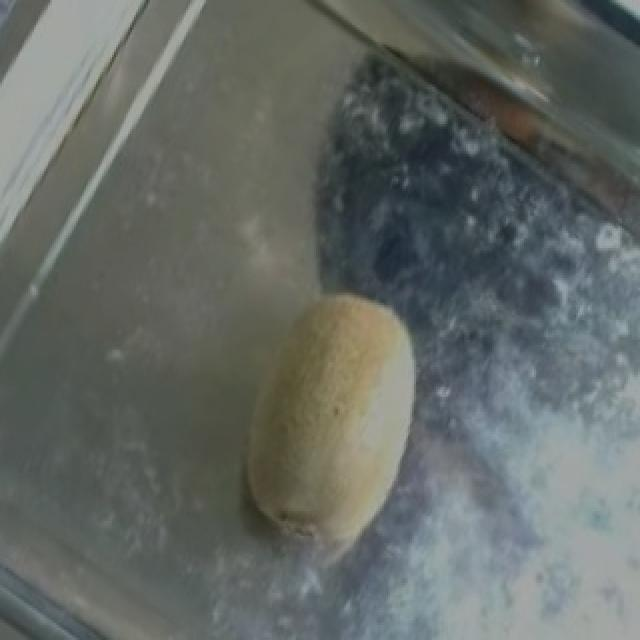Fruit: (200, 256, 442, 573)
